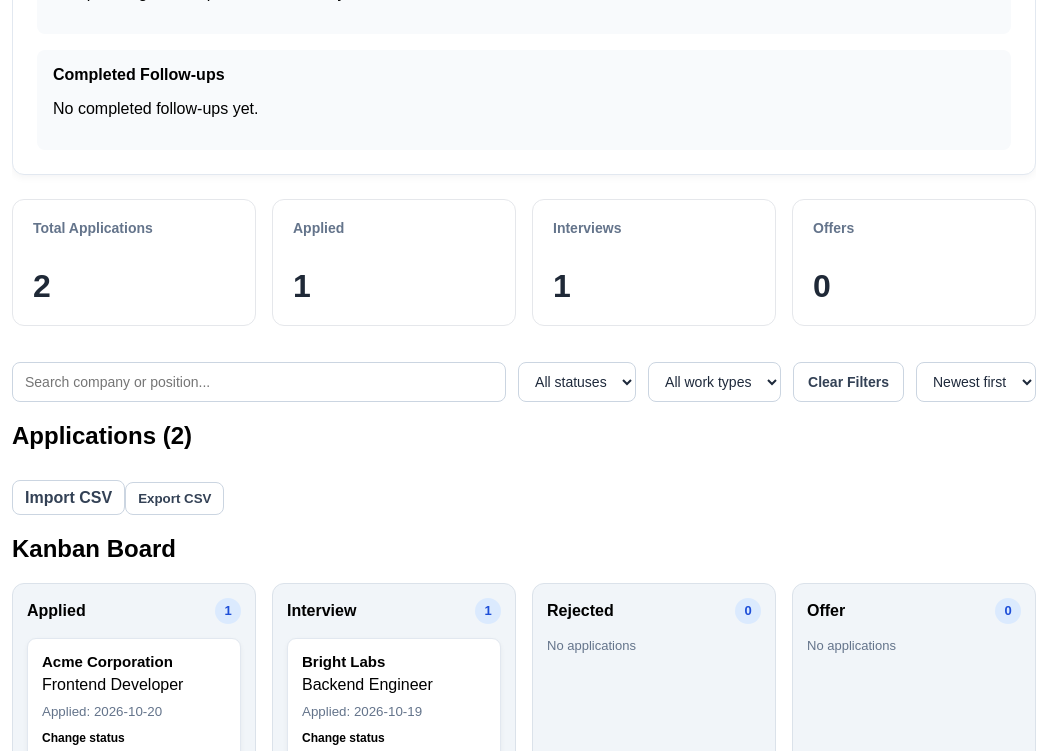
Scenario: Dashboard › filters applications by company or position
The width and height of the screenshot is (1048, 751).
(page scrolled)
Type "Bright" into the field with placeholder "Search company or position...".
click(259, 382); type("Bright")  # box [12, 362, 506, 402]
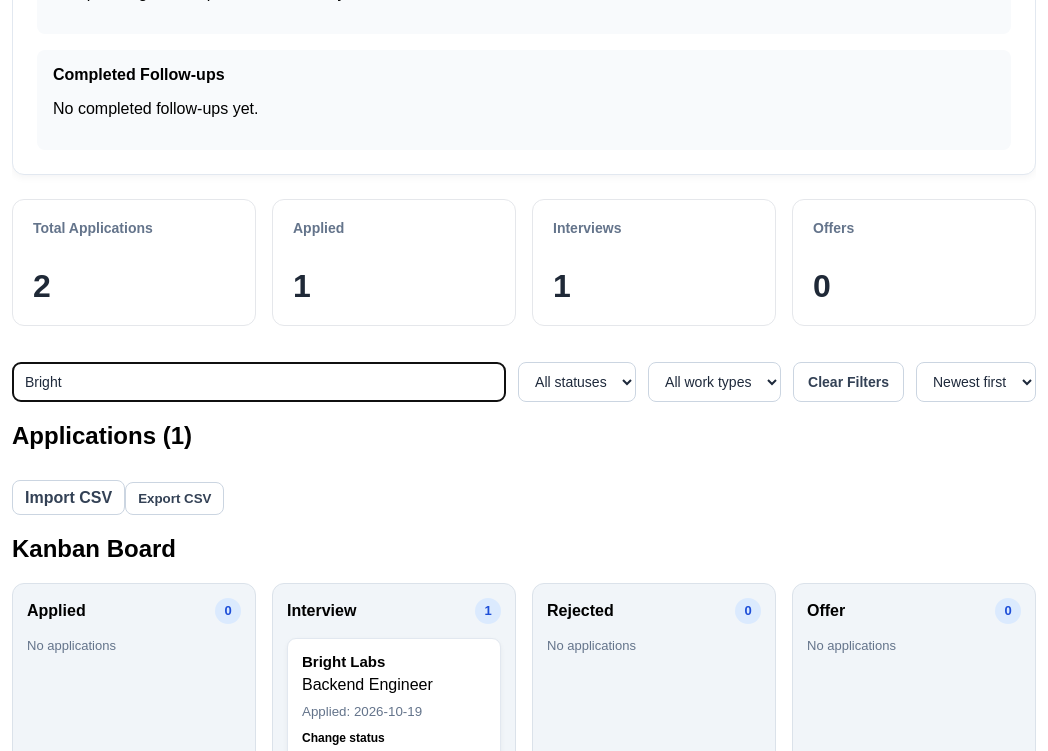
Result: the text "Frontend Developer" is gone
Result: the heading "Applications (1)" is shown at [12, 422, 192, 449]
Replace the text in the field with placeholder "Search company or position..." with "Frontend Developer" at coordinates (259, 382), box [12, 362, 506, 402]
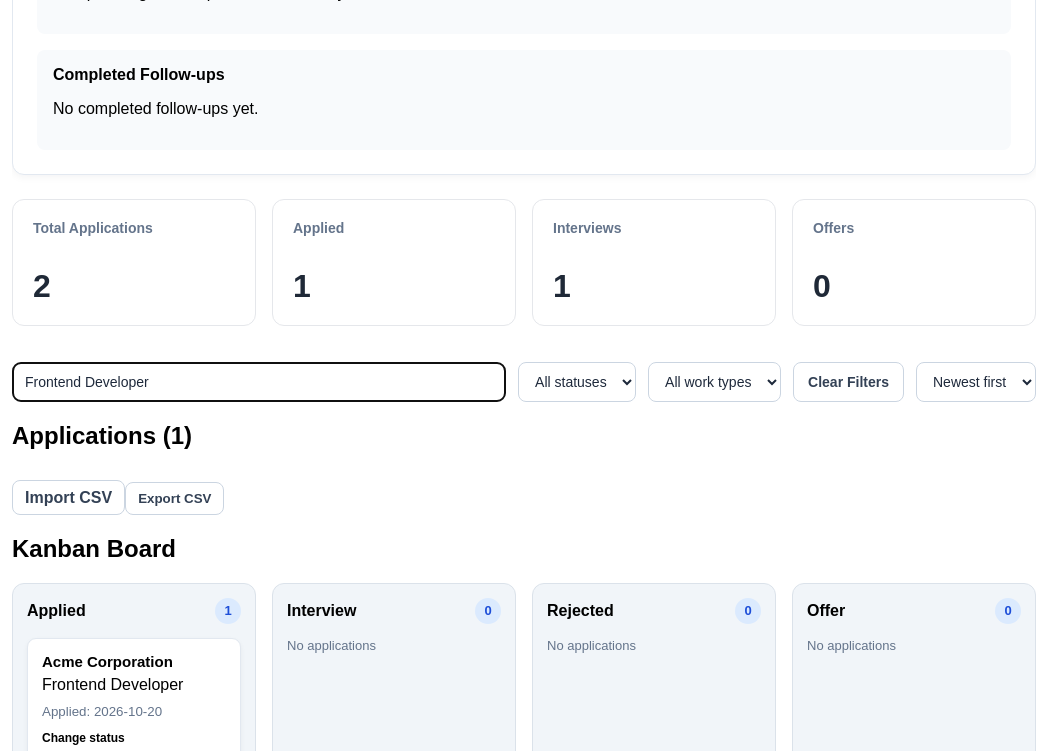
Expected: the heading "Applications (1)" is shown, [12, 422, 192, 449]
Result: the text "Backend Engineer" is gone
Replace the text in the field with placeholder "Search company or position..." with "Nonexistent Company" at coordinates (259, 382), box [12, 362, 506, 402]
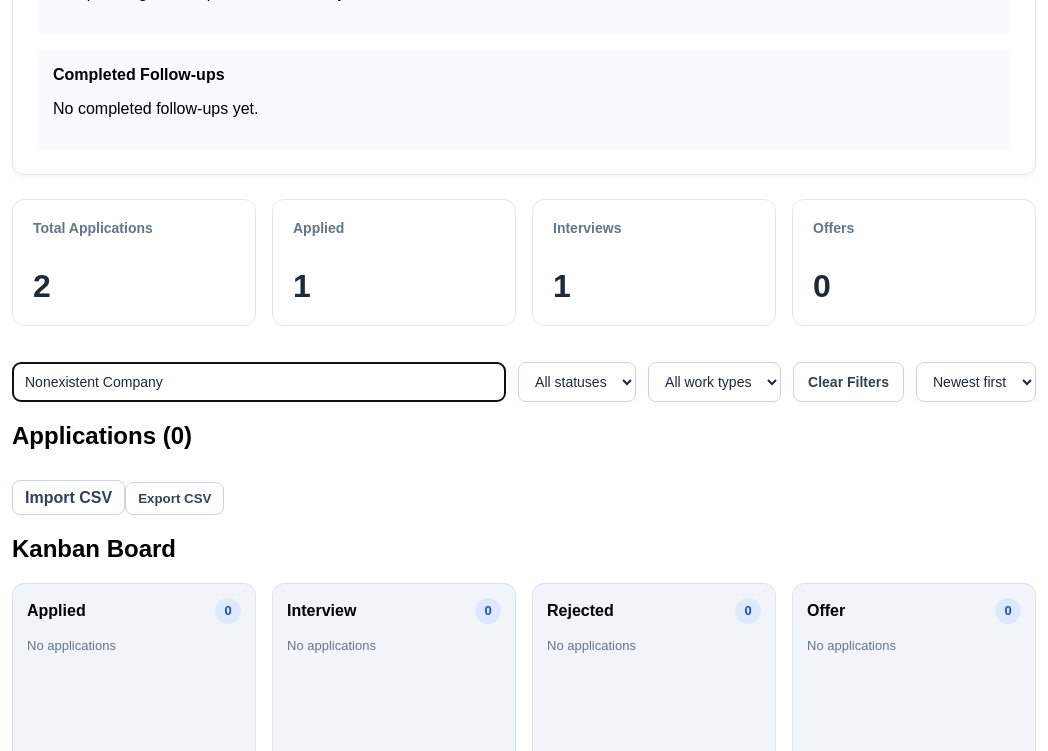
Expected: the text "Backend Engineer" is not shown
Result: the text "Frontend Developer" is gone
Result: the heading "Applications (0)" is shown at [12, 422, 192, 449]
